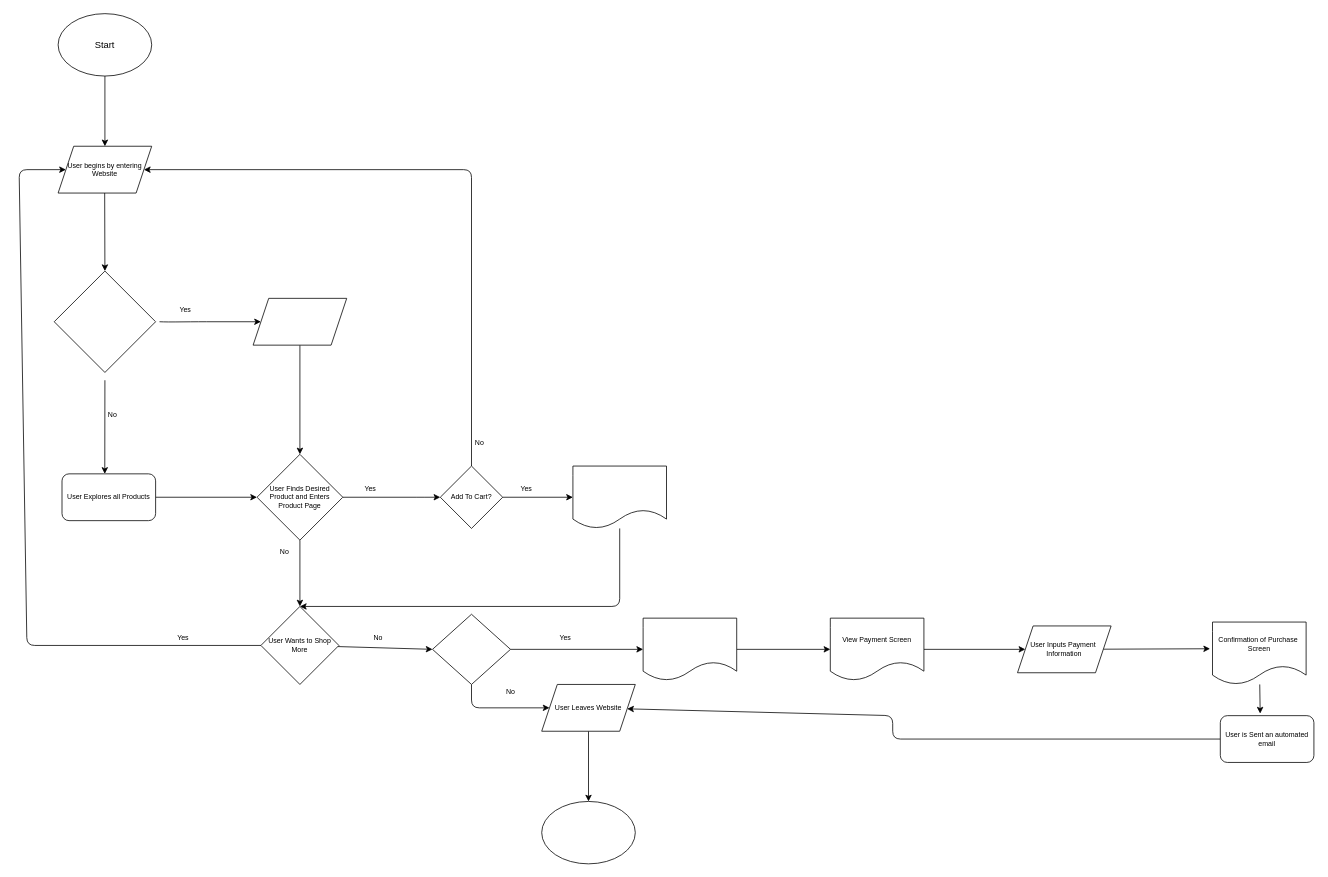
The diagram is 1328 pixels wide and 877 high, and some of its shapes have lost their labels. Each missing label, with the centre of its shape:
Added To Cart Successfully: point (619, 496)
Checkout?: point (471, 648)
End: point (588, 832)
Input Product Page of User Search: point (299, 321)
User Chooses Chooses To Search for Product: point (104, 321)
View Cart: point (689, 649)
